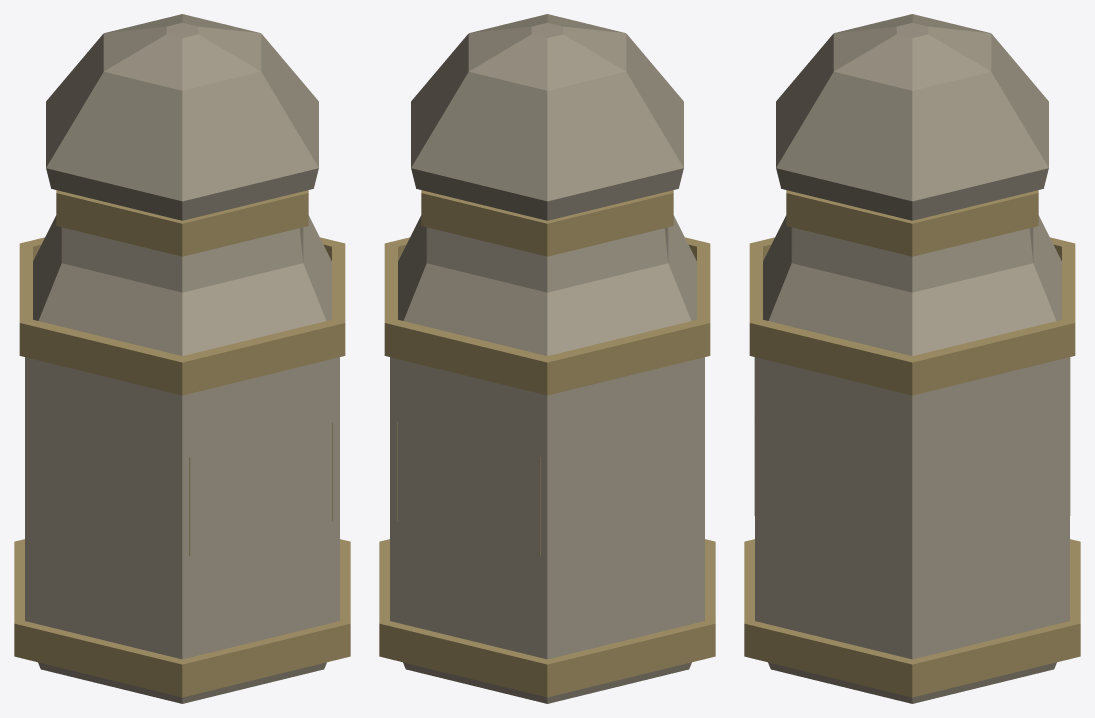
File: DG_Urn_HexReliquary.fbx
3 views of the same model, side by side, from view 1: azimuth 30°, elevation 25°; view 2: azimuth 150°, elevation 25°; view 3: azimuth 270°, elevation 25° (orthographic).
Visible parts, largest first — view 1: DG_Urn_HexReliquary; view 2: DG_Urn_HexReliquary; view 3: DG_Urn_HexReliquary.
Boxes of the visible parts, <box> form: DG_Urn_HexReliquary: <box>14,14,350,703</box>; DG_Urn_HexReliquary: <box>379,14,715,703</box>; DG_Urn_HexReliquary: <box>744,14,1080,703</box>.
Size of the model in its own units: 0.64 by 1.1 by 0.5543.
